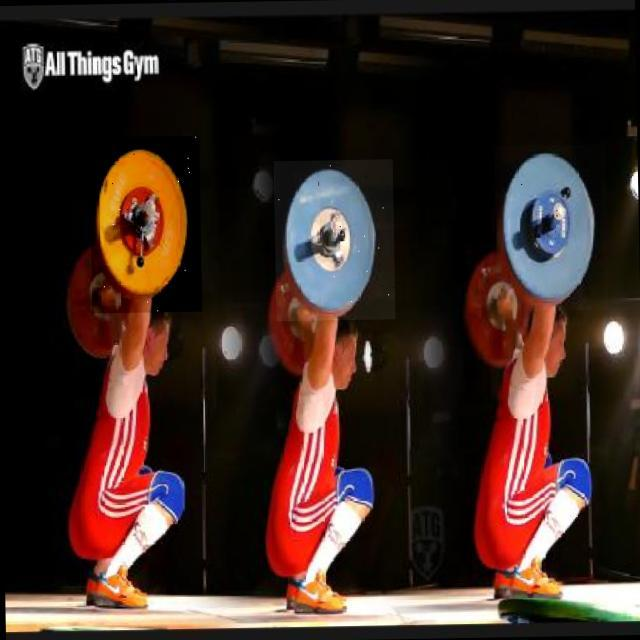barbell: (90, 136, 203, 314), (274, 160, 396, 322), (495, 145, 609, 312)
